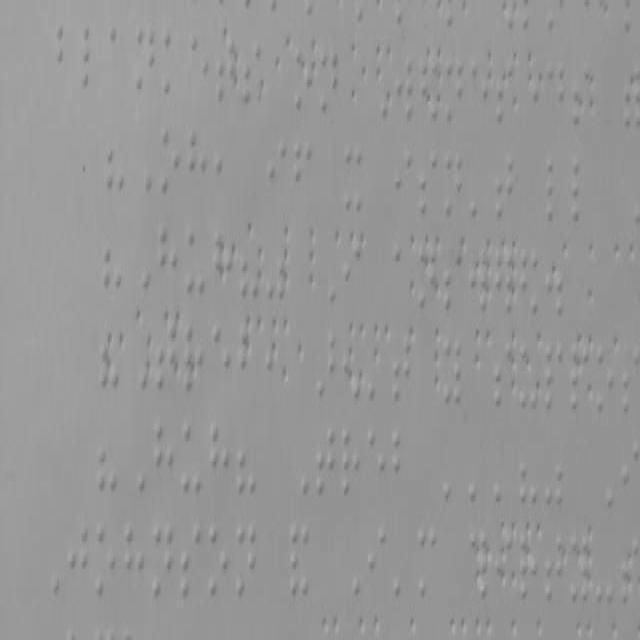braiile: (233, 516, 261, 608), (178, 413, 206, 502), (149, 520, 177, 609), (179, 516, 205, 608), (205, 416, 232, 504), (105, 20, 131, 109), (186, 21, 214, 103), (568, 150, 596, 232), (79, 18, 105, 106), (66, 518, 92, 606), (158, 22, 186, 102), (131, 20, 157, 104), (152, 412, 176, 503), (92, 518, 118, 602), (205, 520, 229, 609), (366, 520, 390, 609), (388, 421, 414, 503), (414, 524, 440, 606), (122, 521, 146, 608), (544, 148, 568, 234), (184, 125, 210, 203), (315, 420, 339, 504), (56, 18, 78, 106), (492, 149, 516, 229), (158, 222, 182, 302), (210, 320, 234, 400), (339, 420, 363, 500), (364, 422, 388, 502), (159, 125, 183, 203), (290, 132, 314, 210), (342, 139, 366, 217), (441, 334, 465, 412), (416, 148, 440, 224), (153, 322, 177, 398), (542, 531, 566, 607), (394, 50, 416, 132), (394, 144, 416, 225), (389, 332, 413, 406), (467, 51, 489, 131), (184, 222, 206, 302), (442, 147, 464, 225), (340, 238, 364, 309), (444, 51, 466, 127), (442, 244, 464, 320), (492, 338, 514, 409), (544, 342, 566, 413), (620, 436, 640, 514), (214, 36, 236, 106), (242, 34, 262, 108), (546, 56, 566, 130), (596, 344, 616, 416), (268, 133, 288, 204), (318, 51, 339, 118)
